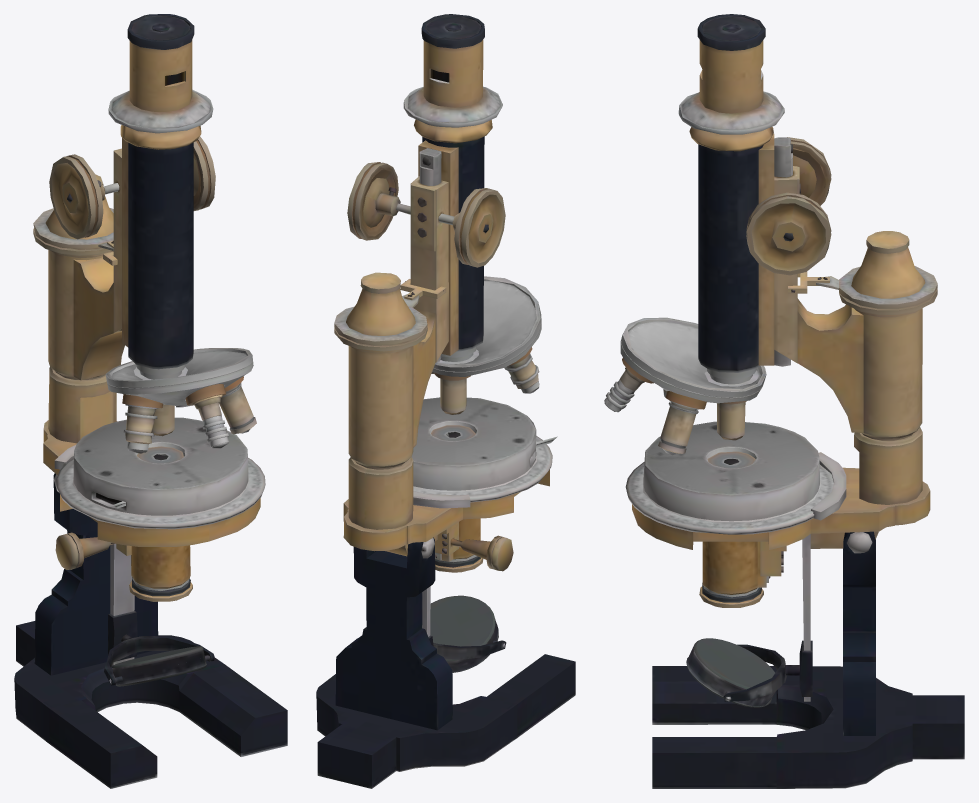
Rendered from vintage_microscope.glb.
The picture shows the model from 3 angles, left to right: view 1: azimuth 30°, elevation 25°; view 2: azimuth 150°, elevation 25°; view 3: azimuth 270°, elevation 25°; orthographic projection. The views are drawn at different scales.
Parts seen in each view (by area): view 1: vintage_microscope_mirror_arm, vintage_microscope_mirror_base; view 2: vintage_microscope_mirror_arm, vintage_microscope_mirror_base; view 3: vintage_microscope_mirror_arm, vintage_microscope_mirror_base.
Boxes of the visible parts, x1,y1,x2,y2 form: vintage_microscope_mirror_arm: (14, 14, 287, 788); vintage_microscope_mirror_base: (112, 646, 206, 686); vintage_microscope_mirror_arm: (316, 14, 575, 788); vintage_microscope_mirror_base: (430, 595, 498, 672); vintage_microscope_mirror_arm: (604, 14, 964, 788); vintage_microscope_mirror_base: (686, 638, 774, 707).
Bounding box in the file's own units: 0.1068 × 0.3996 × 0.1819.
2 materials, 2 textured.
